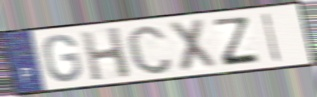C: (124, 22, 175, 76)
G: (42, 33, 84, 84)
H: (79, 25, 134, 82)
I: (261, 10, 283, 64)
X: (166, 16, 219, 74)
Z: (212, 16, 262, 68)
